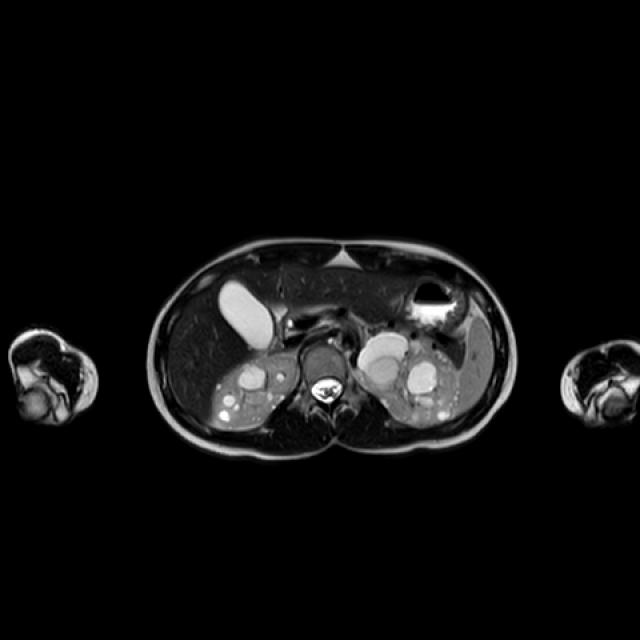sag: (211, 355, 301, 431)
sol: (356, 334, 460, 429)
